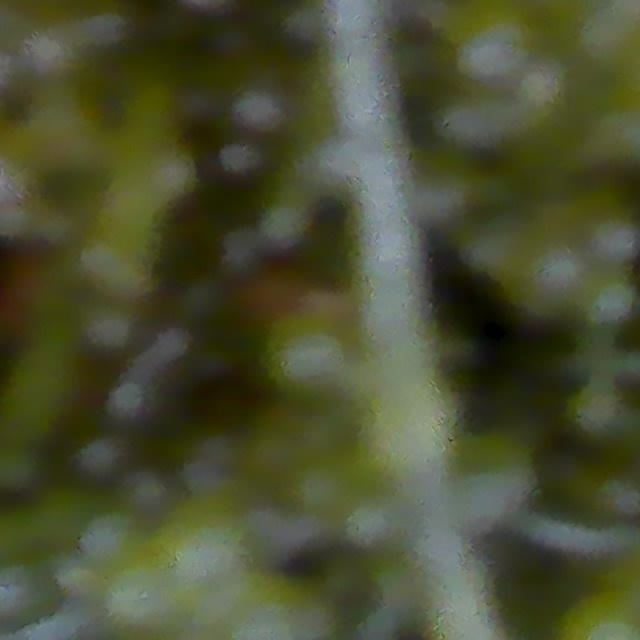SeaGrape: (263, 311, 355, 401), (448, 0, 539, 88), (507, 240, 590, 321), (578, 268, 637, 326), (585, 212, 640, 268)
